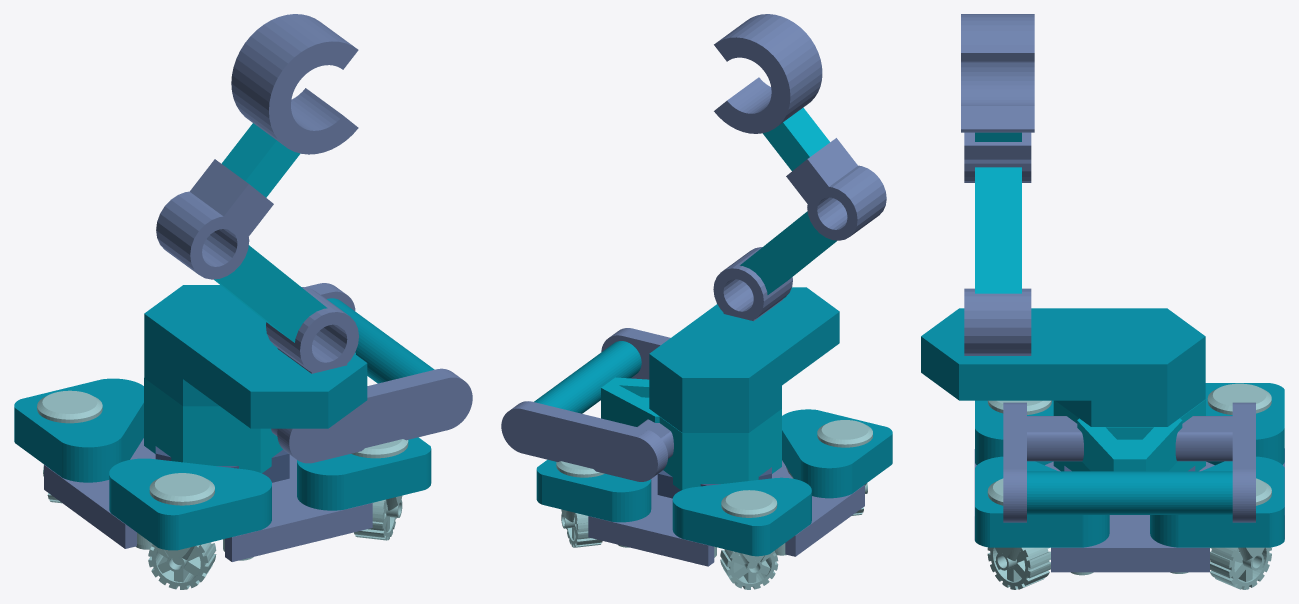
File: bot-swerve-blue-manipulator.glb
3 views of the same model, side by side, from view 1: azimuth 30°, elevation 25°; view 2: azimuth 150°, elevation 25°; view 3: azimuth 270°, elevation 25° (orthographic). The views are drawn at different scales.
Parts seen in each view (by area): view 1: Mesh_Mesh_head_geo.001_lambert2SG.001; view 2: Mesh_Mesh_head_geo.001_lambert2SG.001; view 3: Mesh_Mesh_head_geo.001_lambert2SG.001.
Boxes of the visible parts, <box> form: Mesh_Mesh_head_geo.001_lambert2SG.001: <box>14,14,472,589</box>; Mesh_Mesh_head_geo.001_lambert2SG.001: <box>501,14,892,589</box>; Mesh_Mesh_head_geo.001_lambert2SG.001: <box>921,14,1284,589</box>.
Size of the model in its own units: 0.0272 by 0.0433 by 0.0272.
